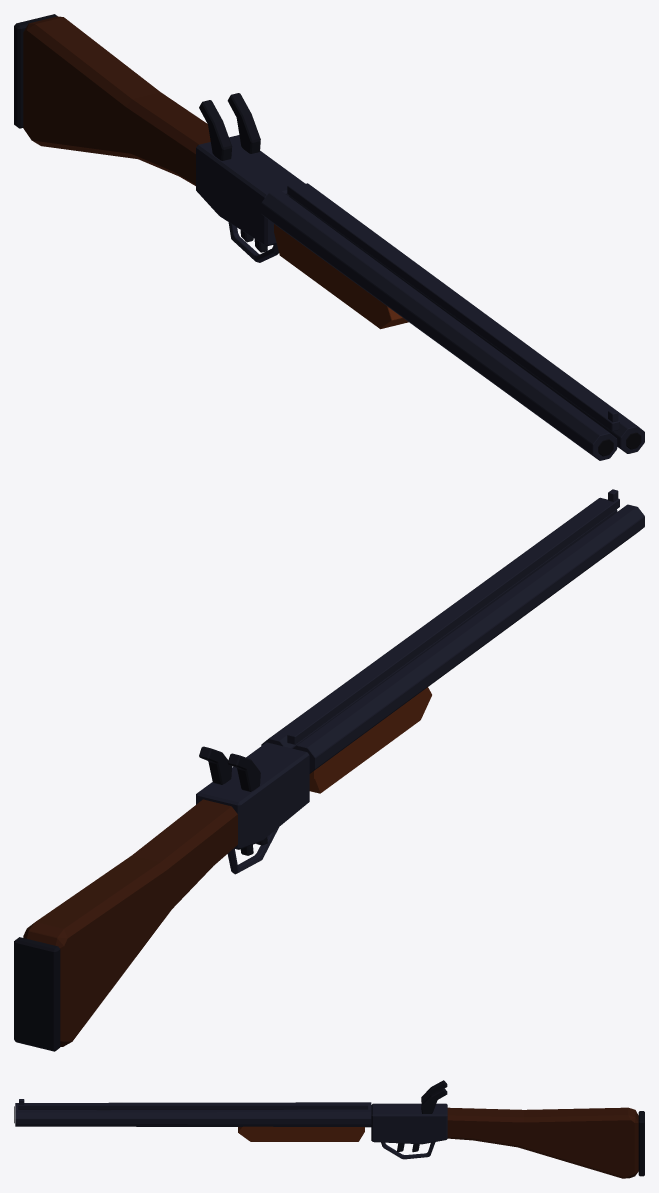
Rendered from myw_doublebarrel.obj.
3 views of the same model, one above another, from view 1: azimuth 30°, elevation 25°; view 2: azimuth 150°, elevation 25°; view 3: azimuth 270°, elevation 25° (orthographic). The views are drawn at different scales.
Parts seen in each view (by area): view 1: Barrels, Stock, Action, Hammer_L, Hammer_R; view 2: Barrels, Stock, Action, Hammer_L; view 3: Barrels, Stock, Action, Hammer_R, Hammer_L.
Part boxes in pixels (<box>): Barrels: <box>261,183,644,460</box>; Stock: <box>23,16,210,185</box>; Action: <box>14,14,305,262</box>; Hammer_L: <box>199,100,232,160</box>; Hammer_R: <box>227,93,260,153</box>; Barrels: <box>261,489,644,793</box>; Stock: <box>23,799,237,1046</box>; Action: <box>14,742,309,1051</box>; Hammer_L: <box>227,753,260,791</box>; Barrels: <box>14,1099,371,1141</box>; Stock: <box>447,1107,638,1178</box>; Action: <box>371,1103,644,1176</box>; Hammer_R: <box>421,1088,447,1113</box>; Hammer_L: <box>421,1080,447,1103</box>.
Size of the model in its own units: 0.2653 by 0.7775 by 4.96.
